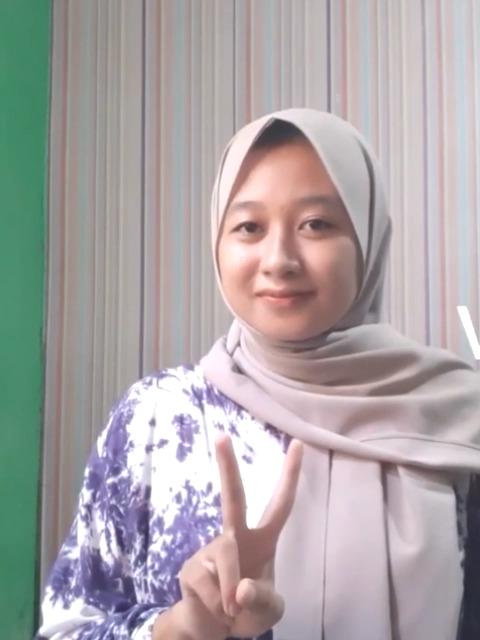V: (167, 434, 310, 640)
